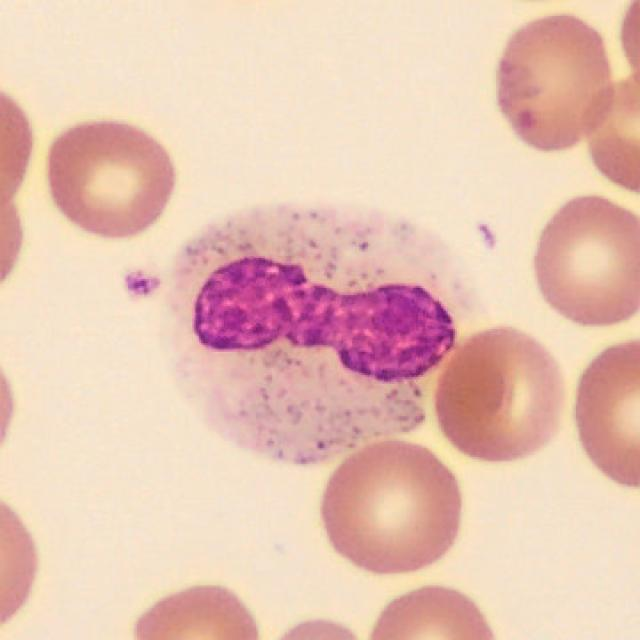Neutrofilo segmentado: (155, 203, 480, 468)
